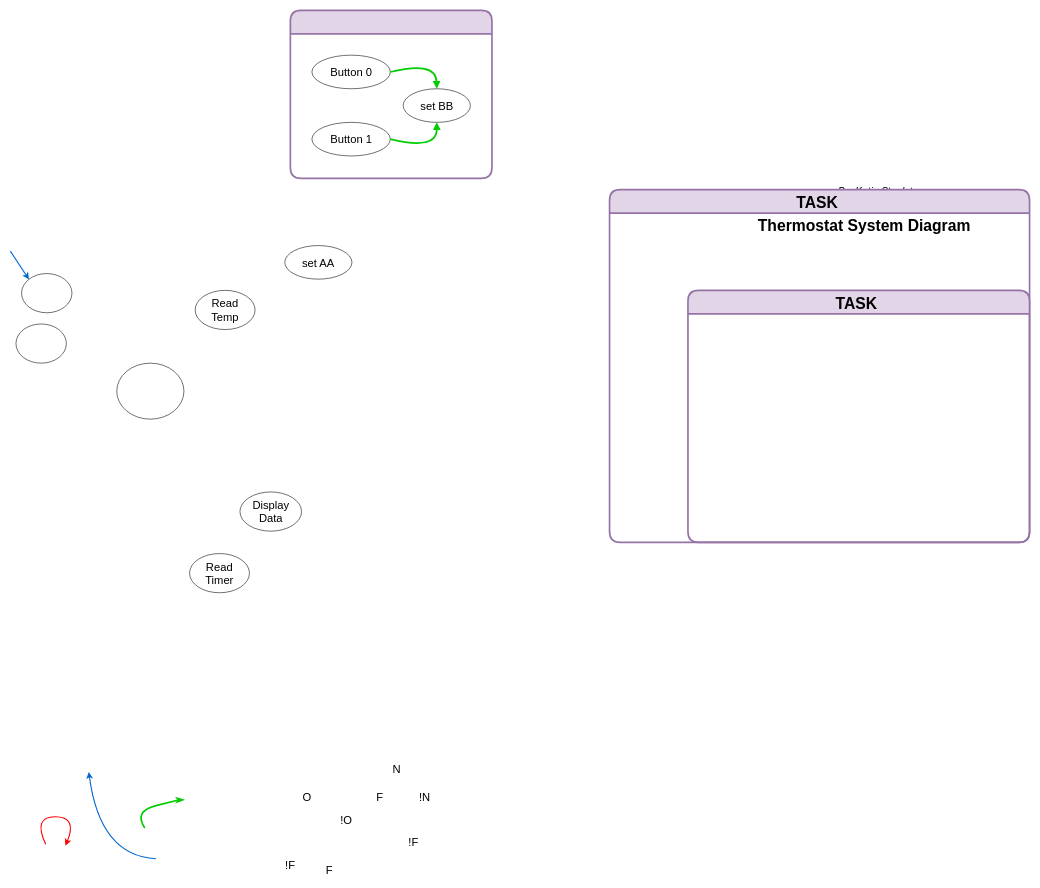
Image size: 1040x888. Some labels were removed from this diagram. Each missing label, with the box of its shape:
Check Buttons: (289, 9, 493, 179)
INIT: (21, 273, 72, 313)
Scheduler: (116, 363, 184, 419)
Timer: (15, 323, 66, 363)
